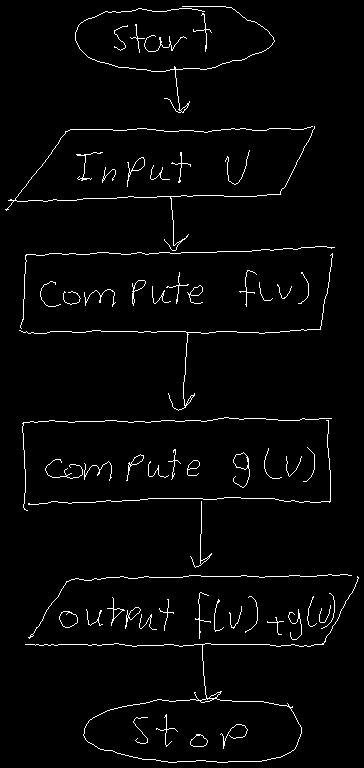arrow: (168, 333, 194, 410), (194, 644, 221, 702), (190, 501, 211, 567), (164, 197, 188, 250), (164, 66, 189, 112)
data: (5, 126, 314, 210), (25, 574, 358, 646)
process: (22, 417, 331, 510), (19, 246, 334, 333)
terminator: (83, 698, 301, 762), (75, 6, 274, 71)
text: (59, 592, 334, 639), (45, 447, 314, 487), (40, 270, 308, 306), (76, 150, 249, 186), (133, 714, 247, 748), (114, 13, 211, 52)
